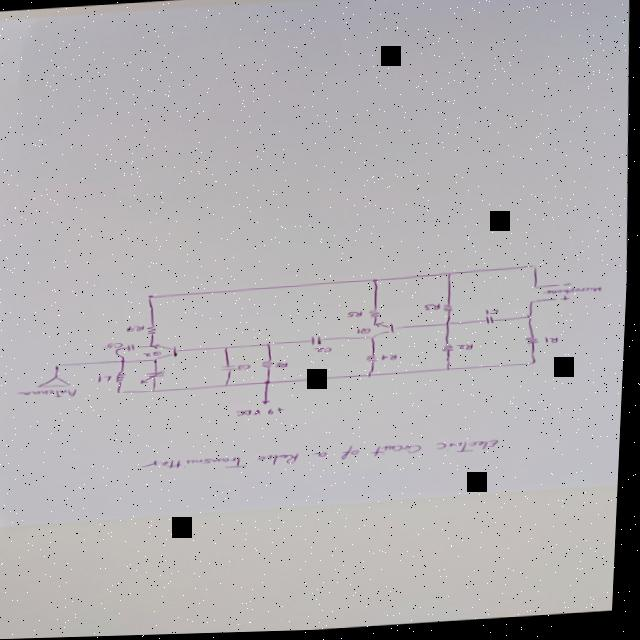capacitor: (142, 370, 172, 385), (311, 337, 327, 348), (224, 365, 242, 374), (128, 344, 142, 352), (486, 318, 498, 327)
inductor: (118, 372, 131, 384)
junction: (370, 373, 379, 380), (373, 280, 383, 286), (151, 389, 161, 394), (447, 325, 457, 329), (528, 317, 536, 322), (121, 360, 130, 364), (58, 364, 66, 368), (225, 348, 233, 352), (150, 296, 158, 300), (267, 382, 275, 386), (532, 364, 540, 368), (449, 275, 456, 279), (120, 392, 129, 395), (268, 345, 276, 348), (531, 303, 537, 307), (535, 268, 541, 272), (449, 370, 455, 374), (117, 349, 125, 352), (226, 385, 233, 388), (535, 289, 541, 292)
resistor: (445, 345, 459, 355), (149, 326, 161, 337), (265, 361, 278, 371), (371, 311, 384, 321), (369, 356, 383, 365), (529, 339, 543, 347), (445, 306, 457, 314)
source: (264, 402, 276, 407)
terminal: (559, 287, 565, 291), (555, 302, 561, 305)
text: (142, 438, 505, 476), (20, 389, 82, 401), (545, 289, 606, 300), (238, 408, 290, 419), (105, 342, 127, 350), (383, 355, 402, 364), (426, 305, 444, 314), (100, 374, 116, 384), (146, 351, 166, 359), (546, 339, 563, 348), (317, 348, 336, 356), (350, 312, 366, 321), (129, 326, 148, 333), (459, 347, 477, 354), (360, 329, 375, 337), (241, 365, 255, 372), (278, 364, 293, 370), (488, 312, 502, 318), (563, 298, 573, 305), (565, 286, 576, 290)
transistor: (150, 343, 184, 363), (371, 323, 402, 343)
